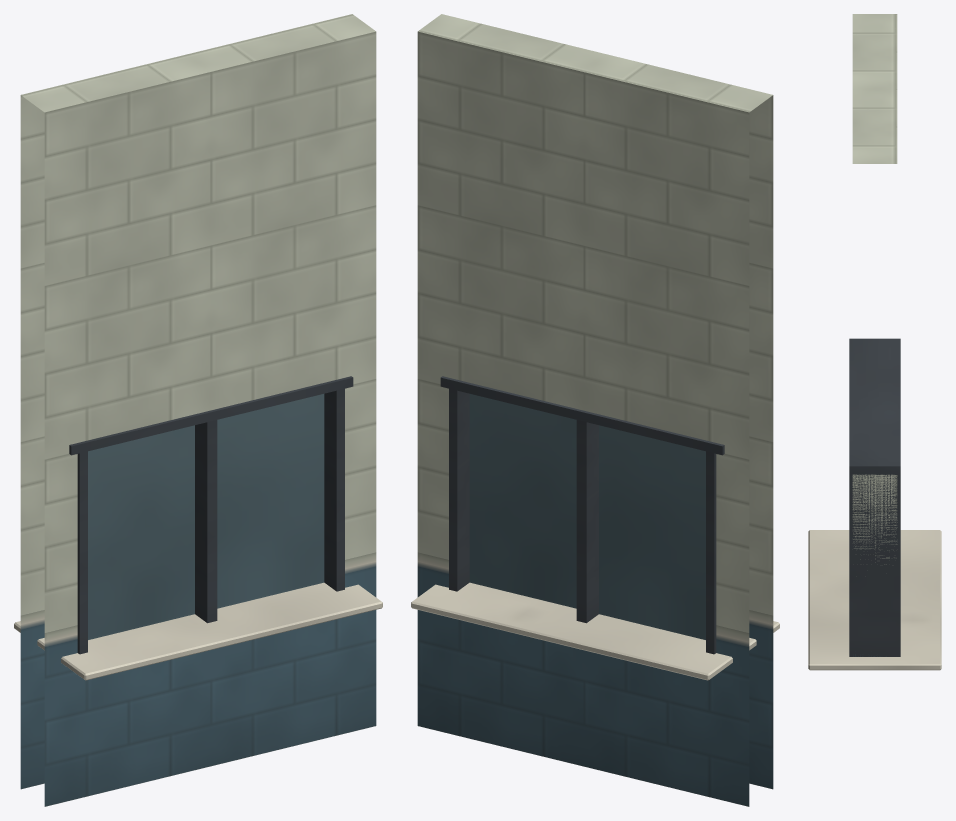
The model's file is wall_visit_window.fbx.
3 renders of one model, left to right at view 1: azimuth 30°, elevation 25°; view 2: azimuth 150°, elevation 25°; view 3: azimuth 270°, elevation 25°, orthographic. The views are drawn at different scales.
Visible parts, largest first — view 1: wall_visit_window; view 2: wall_visit_window; view 3: wall_visit_window.
Part boxes in pixels (x1,y1,x2,y2): wall_visit_window: (14, 14, 382, 806); wall_visit_window: (411, 14, 779, 806); wall_visit_window: (808, 14, 941, 670).
Bounding box in the file's own units: 2 × 4 × 0.75.
1 material, 1 textured.
